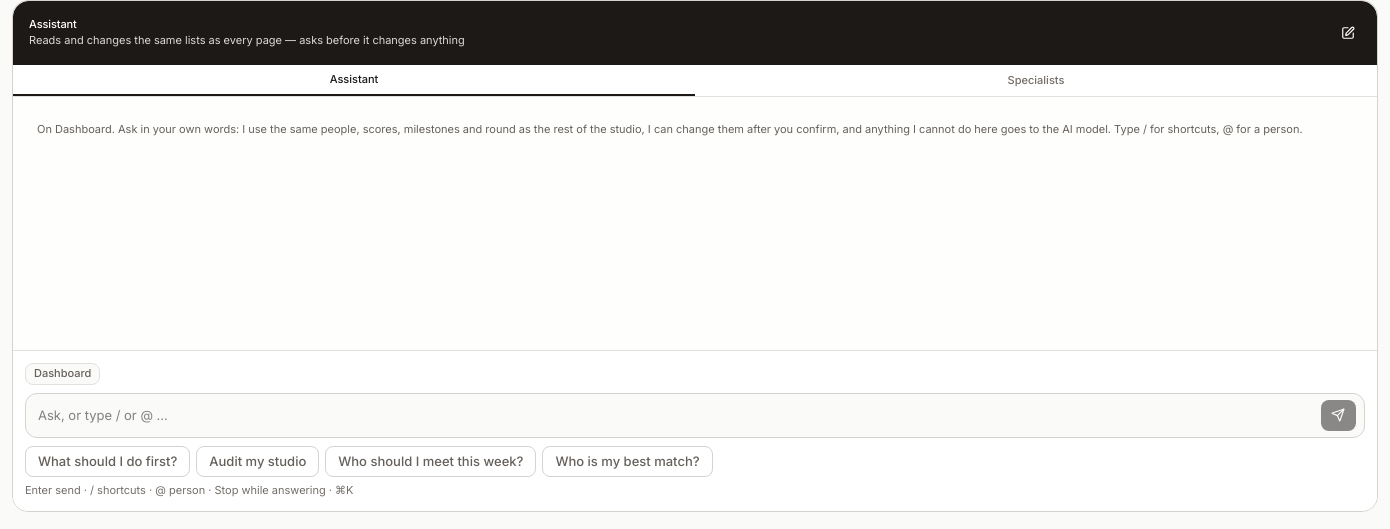
Test: studio chat proposals › answers an unrecognised question honestly instead of with the briefing
This screenshot has width=1390, height=529.
Type "How should I price my SaaS product?" into the field named "Message the assistant".
click(671, 415); type("How should I price my SaaS product?")  # box [30,398,1312,433]
Then press Enter
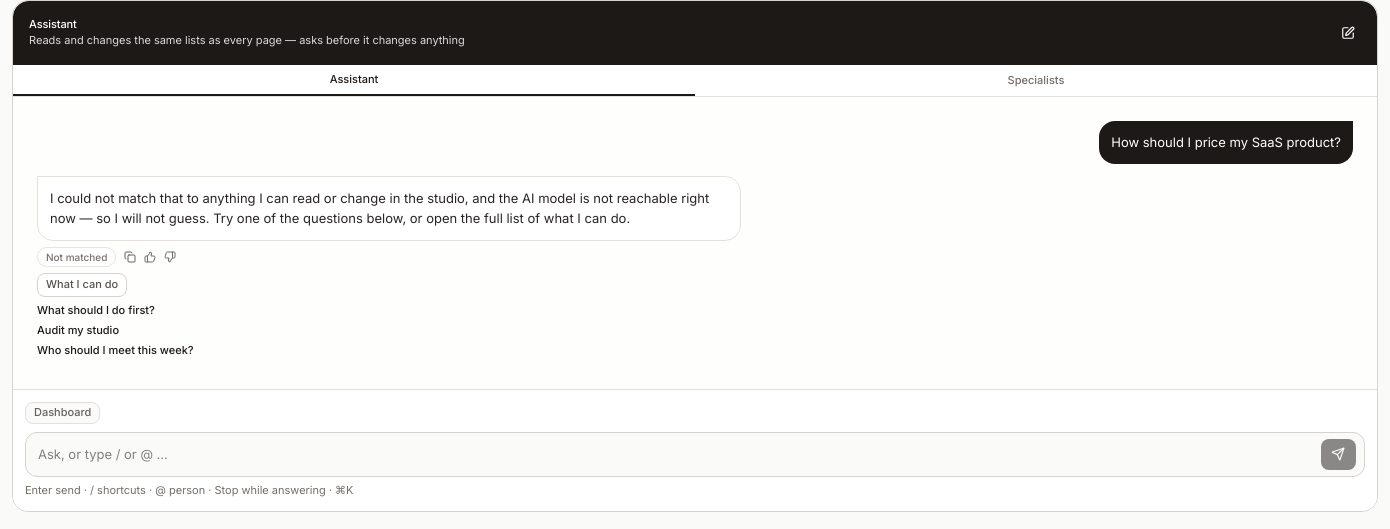
Now the text "not reachable right now" is shown, box [50,190,713,226]
Now the text "Not matched" is shown, box [37,247,116,267]
